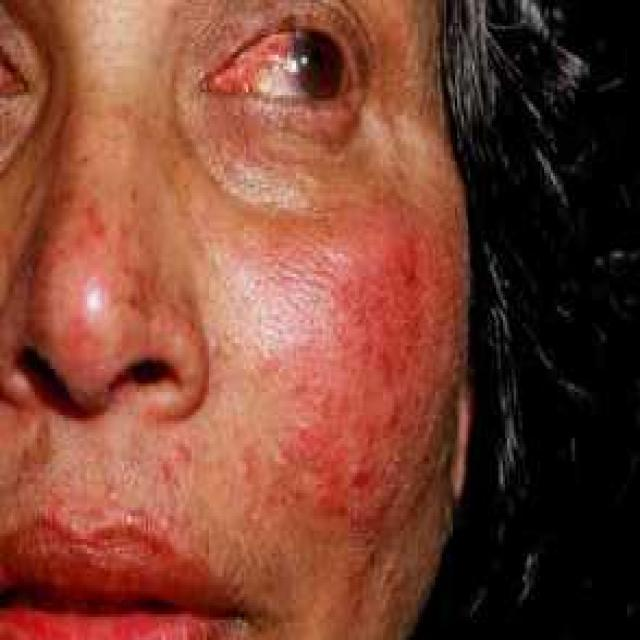Rosacea: (201, 183, 467, 540), (13, 180, 205, 362), (185, 11, 360, 117)
